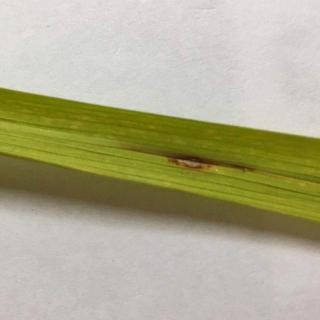Blast: (137, 129, 268, 187)
